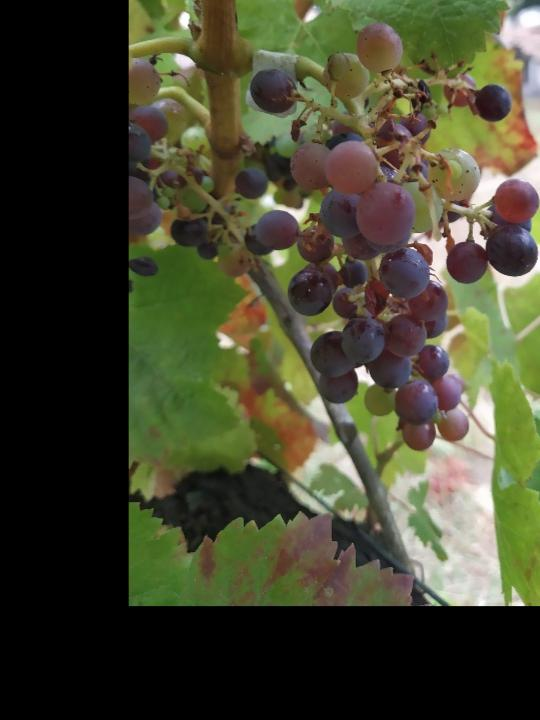grape: (165, 14, 540, 459)
